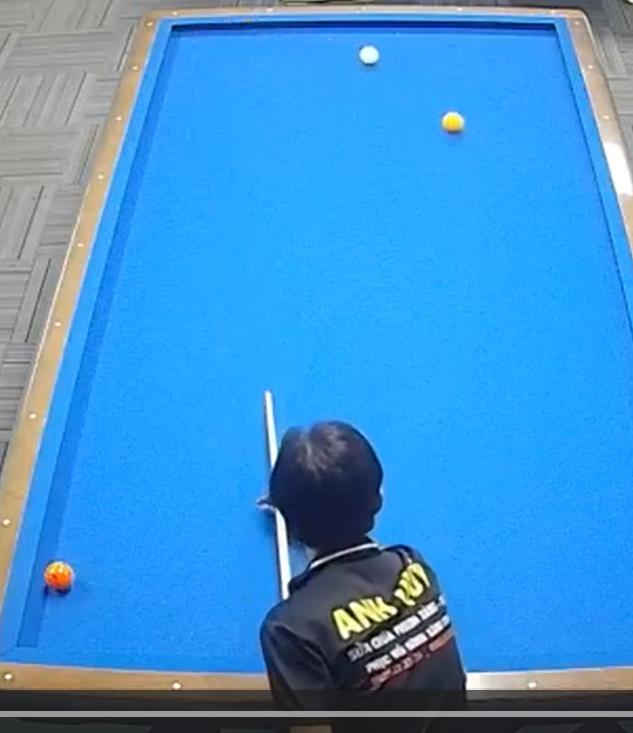orange ball: (41, 555, 75, 598)
white ball: (352, 40, 384, 71)
yellow ball: (440, 109, 466, 140)
